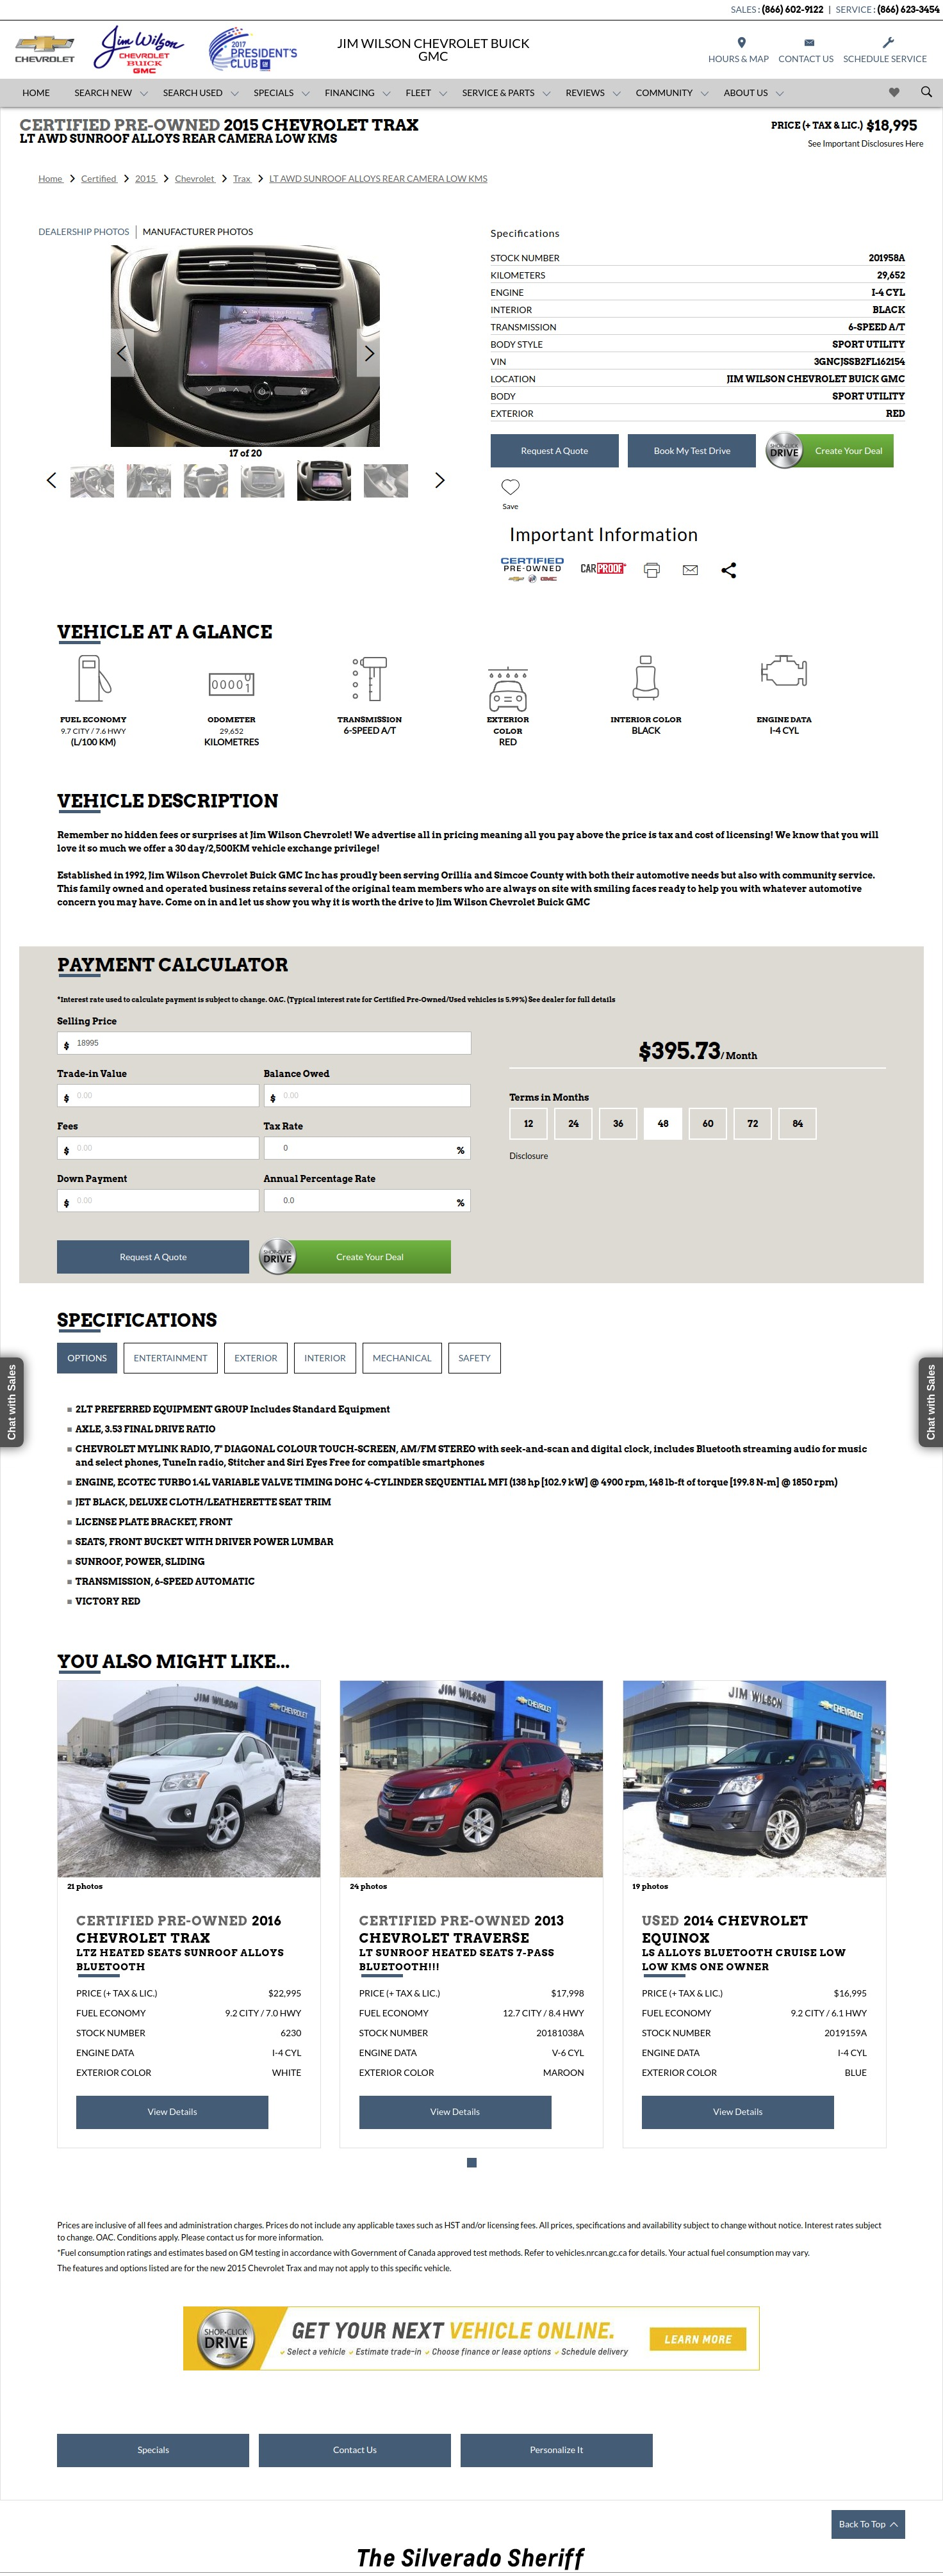car: (435, 472, 445, 490)
